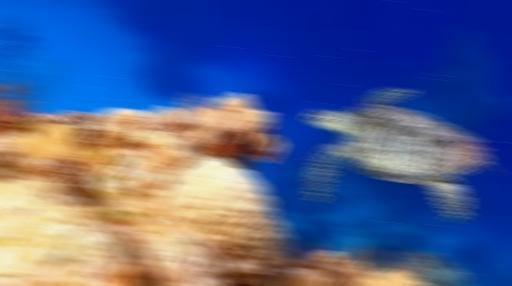Fish: (305, 88, 498, 221)
